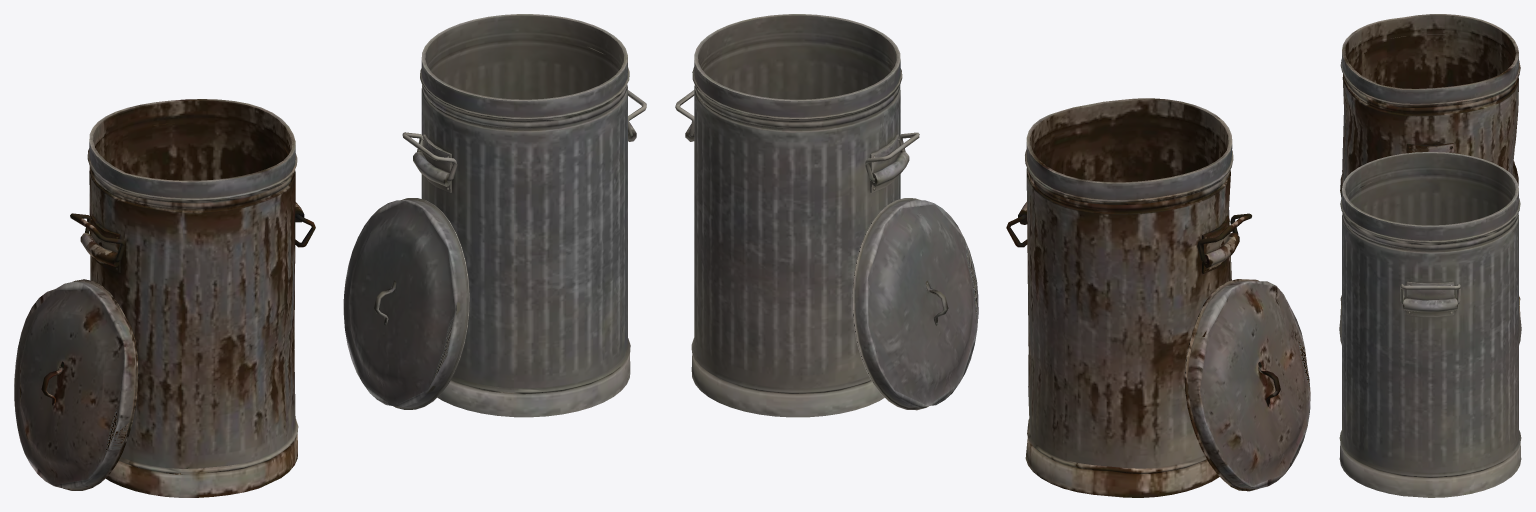
File: metal_trash_can.glb
3 renders of one model, left to right at view 1: azimuth 30°, elevation 25°; view 2: azimuth 150°, elevation 25°; view 3: azimuth 270°, elevation 25°, orthographic. The views are drawn at different scales.
Parts seen in each view (by area): view 1: metal_trash_can_handle_left, metal_trash_can_rust; view 2: metal_trash_can_handle_left, metal_trash_can_rust; view 3: metal_trash_can_handle_left, metal_trash_can_rust.
Part boxes in pixels (x1=…): metal_trash_can_handle_left: x1=343, y1=14, x2=646, y2=417; metal_trash_can_rust: x1=14, y1=99, x2=315, y2=497; metal_trash_can_handle_left: x1=675, y1=14, x2=978, y2=417; metal_trash_can_rust: x1=1006, y1=98, x2=1310, y2=497; metal_trash_can_handle_left: x1=1339, y1=152, x2=1521, y2=497; metal_trash_can_rust: x1=1340, y1=14, x2=1520, y2=317.
Bounding box in the file's own units: 1.78 × 0.9063 × 0.5543.
Materials: 2 (2 with a texture image).
